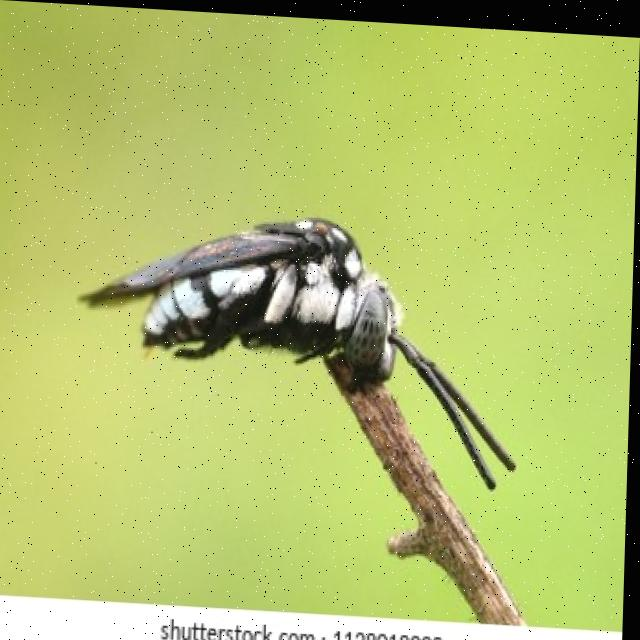Thyreus: (75, 187, 551, 494)
